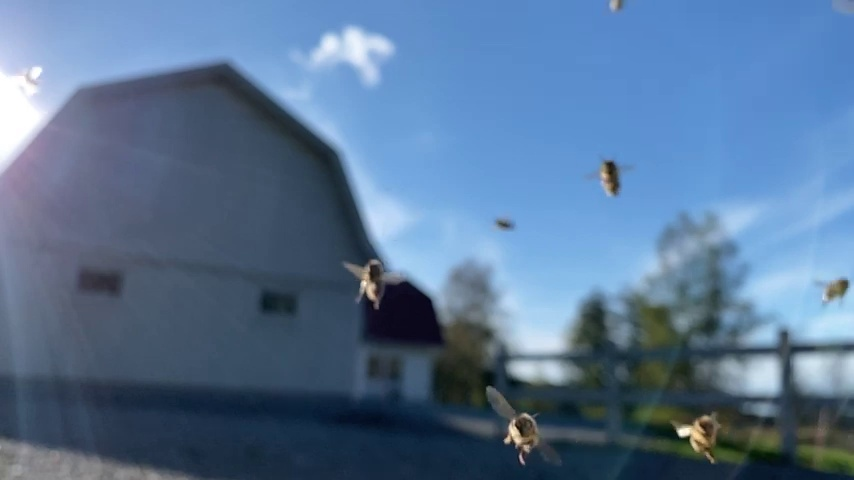insect: (486, 384, 563, 468), (337, 259, 403, 313), (670, 409, 724, 461), (585, 157, 635, 199), (814, 275, 851, 308)
